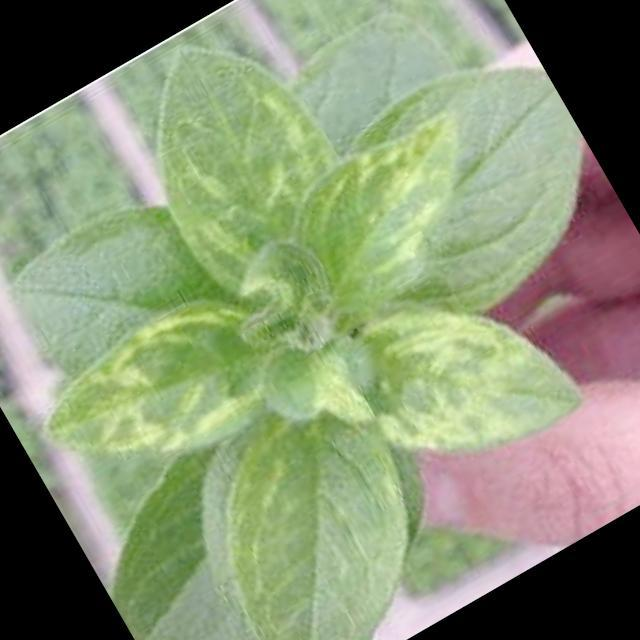Tomato mosaic virus leaf: (94, 12, 394, 354), (168, 376, 475, 640), (16, 272, 300, 516), (253, 101, 526, 349)
